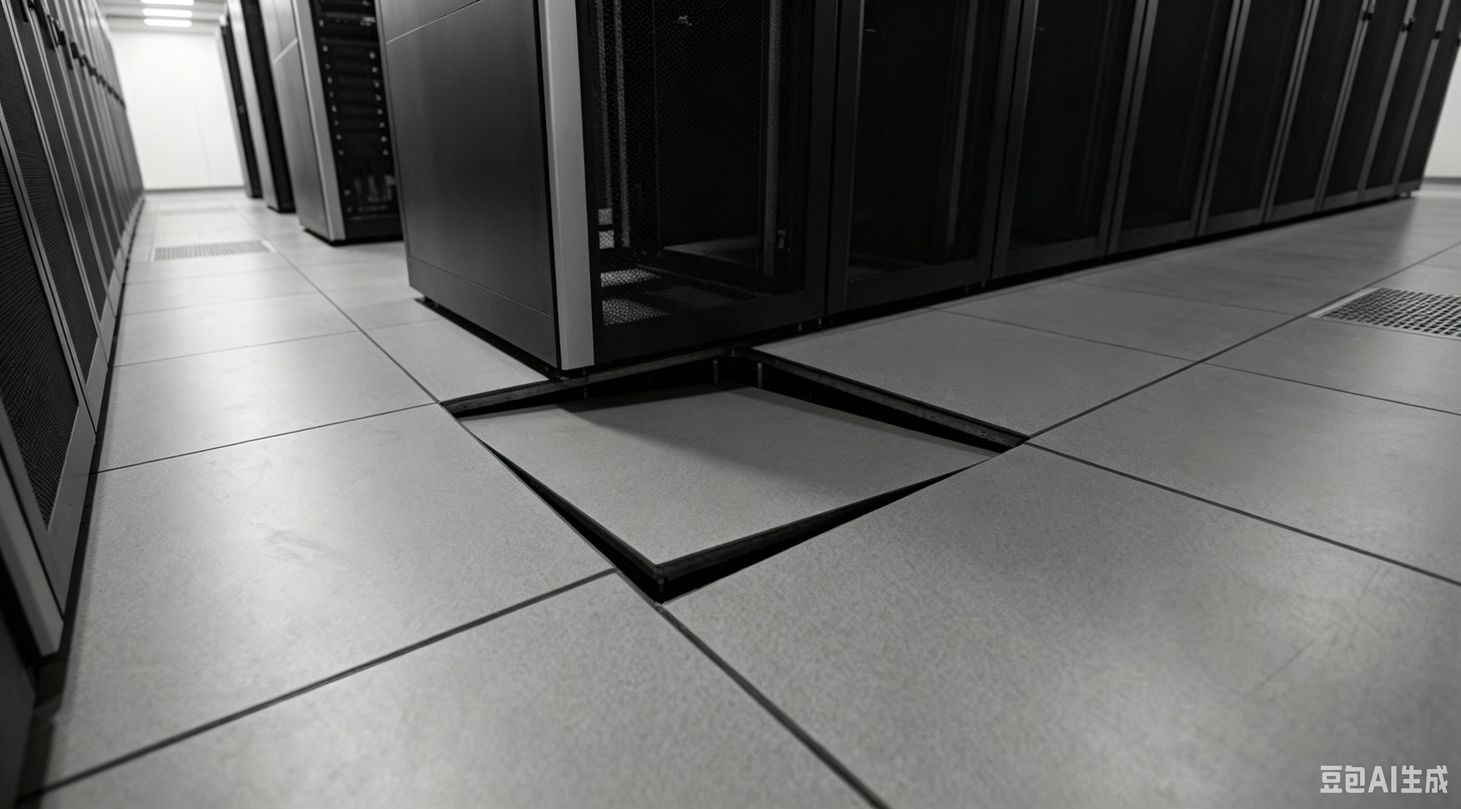floor_defect: (434, 341, 1036, 614)
